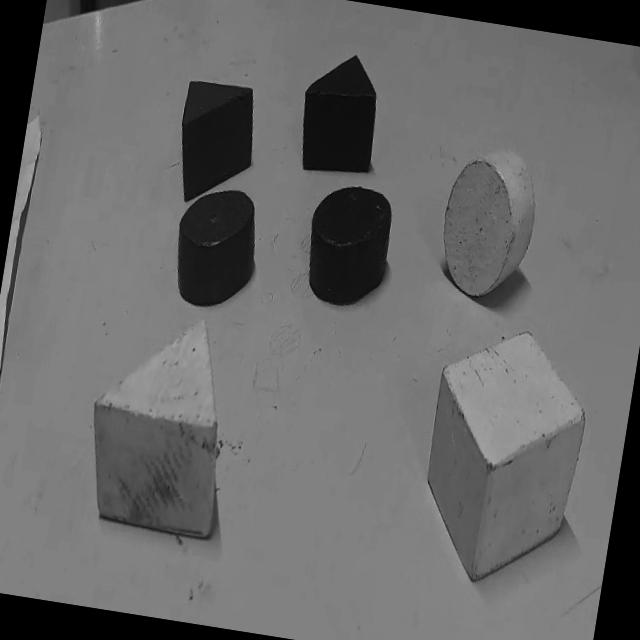bcircle: (298, 178, 398, 314)
btriangle: (289, 47, 386, 185)
rcircle: (166, 181, 264, 315)
rtriangle: (167, 76, 263, 214)
ycircle: (432, 142, 546, 306)
ycube: (407, 316, 598, 596)
ytriangle: (75, 303, 245, 541)
